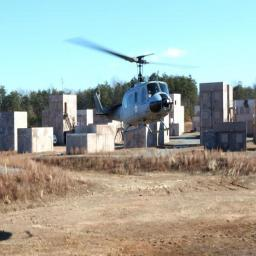helicopter: (71, 38, 181, 138)
